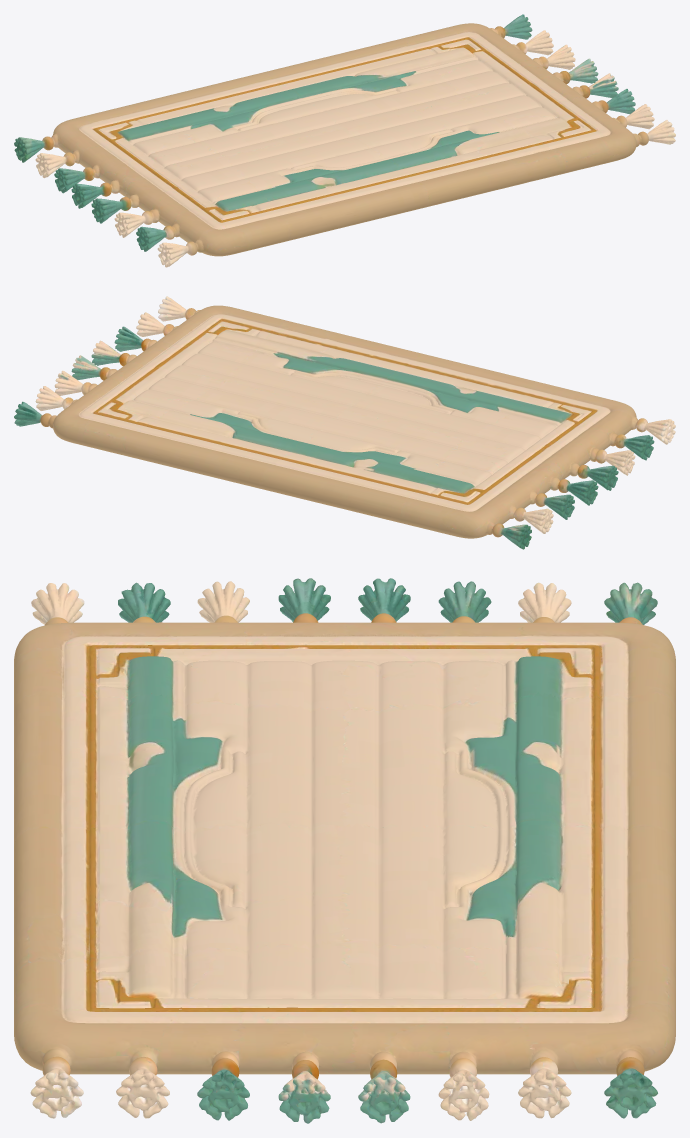
The model's file is prayer-rug-variant-02-sand-stepped-arch.glb.
3 renders of one model, top to bottom at view 1: azimuth 30°, elevation 25°; view 2: azimuth 150°, elevation 25°; view 3: azimuth 270°, elevation 25°, orthographic. The views are drawn at different scales.
Visible parts, largest first — view 1: mesh_node; view 2: mesh_node; view 3: mesh_node.
Part boxes in pixels (box(x1,y1,x2,y2)): mesh_node: box(14, 14, 675, 267); mesh_node: box(14, 296, 675, 549); mesh_node: box(14, 578, 675, 1123).
Bounding box in the file's own units: 1.9 × 0.0943 × 1.06.
1 material, 1 textured.
